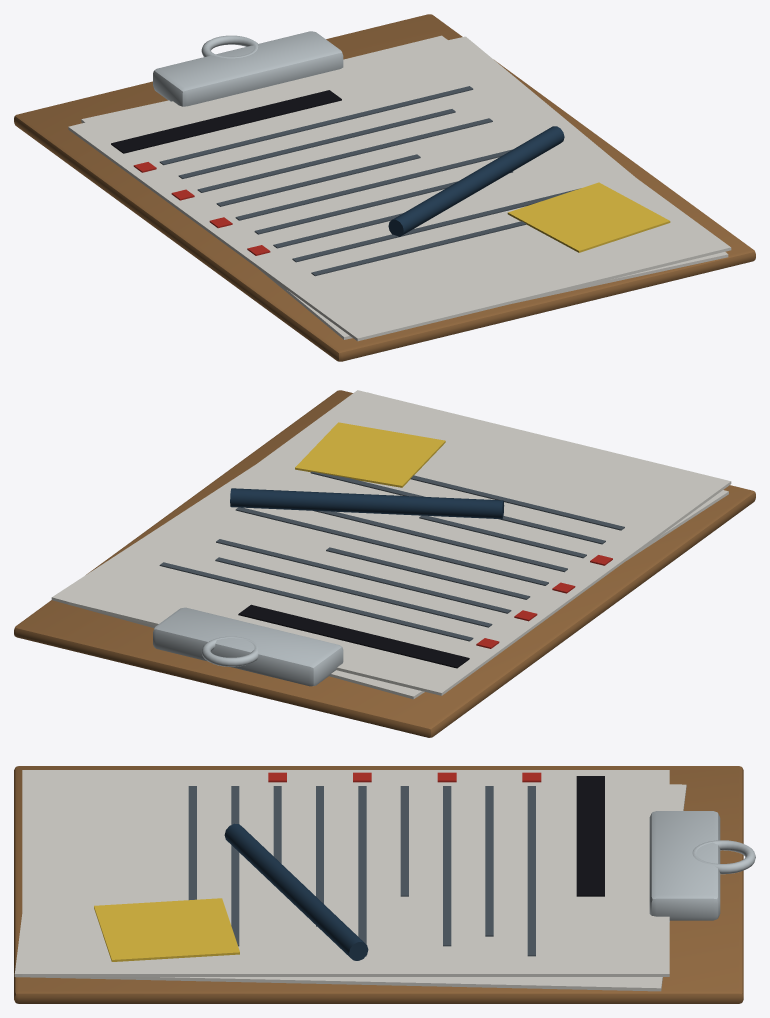
3 renders of one model, top to bottom at view 1: azimuth 30°, elevation 25°; view 2: azimuth 150°, elevation 25°; view 3: azimuth 270°, elevation 25°, orthographic. The views are drawn at different scales.
Parts seen in each view (by area): view 1: kit_clipboard; view 2: kit_clipboard; view 3: kit_clipboard.
Part boxes in pixels (left/top/right/bottom): kit_clipboard: left=14, top=14, right=755, bottom=361; kit_clipboard: left=14, top=390, right=755, bottom=737; kit_clipboard: left=14, top=766, right=755, bottom=1003.
Size of the model in its own units: 0.23 by 0.0181 by 0.3152.
